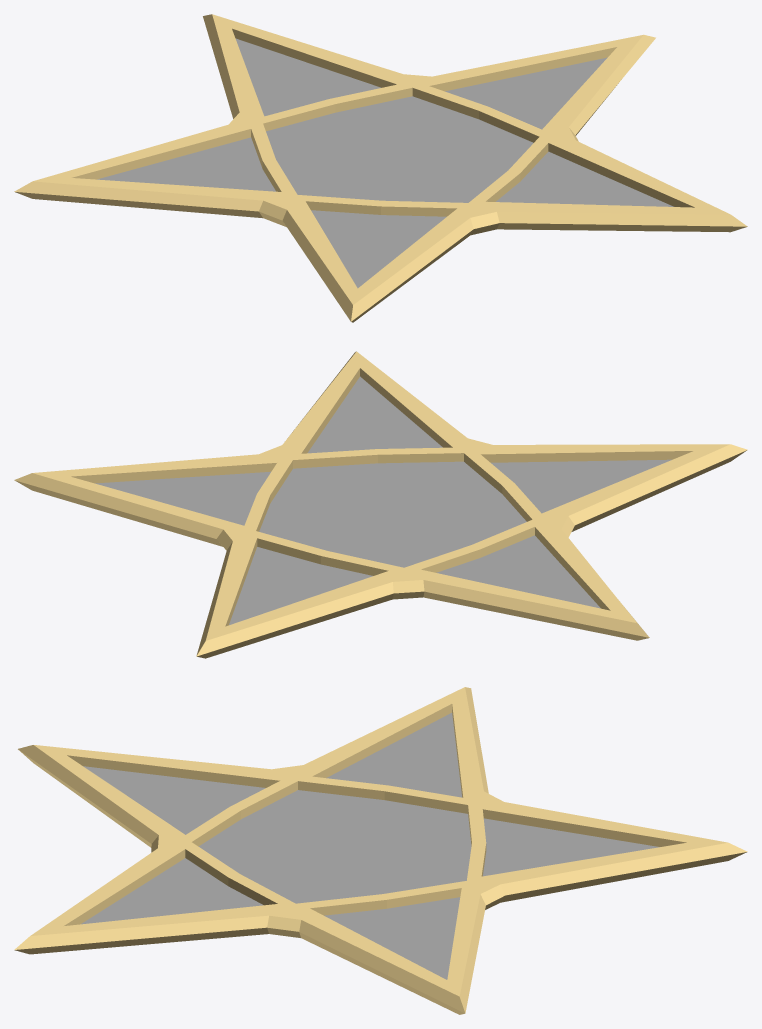
The model's file is star_B.fbx.
3 views of the same model, one above another, from view 1: azimuth 30°, elevation 25°; view 2: azimuth 150°, elevation 25°; view 3: azimuth 270°, elevation 25° (orthographic). The views are drawn at different scales.
Parts seen in each view (by area): view 1: star; view 2: star; view 3: star.
Part boxes in pixels (x1,y1,x2,y2): star: (14, 14, 747, 322); star: (14, 351, 747, 658); star: (14, 687, 747, 1014).
Bounding box in the file's own units: 9.7 × 0.2551 × 9.25.
